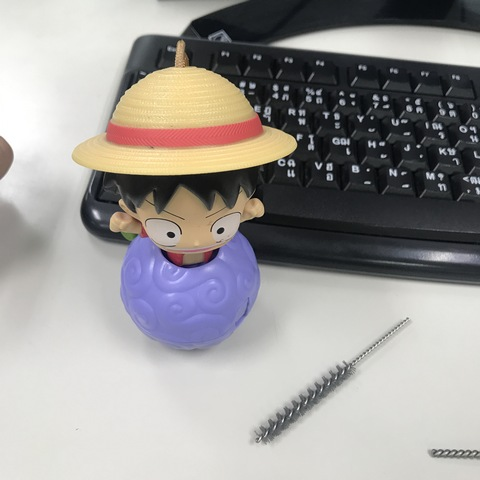Twist Brush-A: (251, 317, 413, 444), (428, 447, 480, 461)
